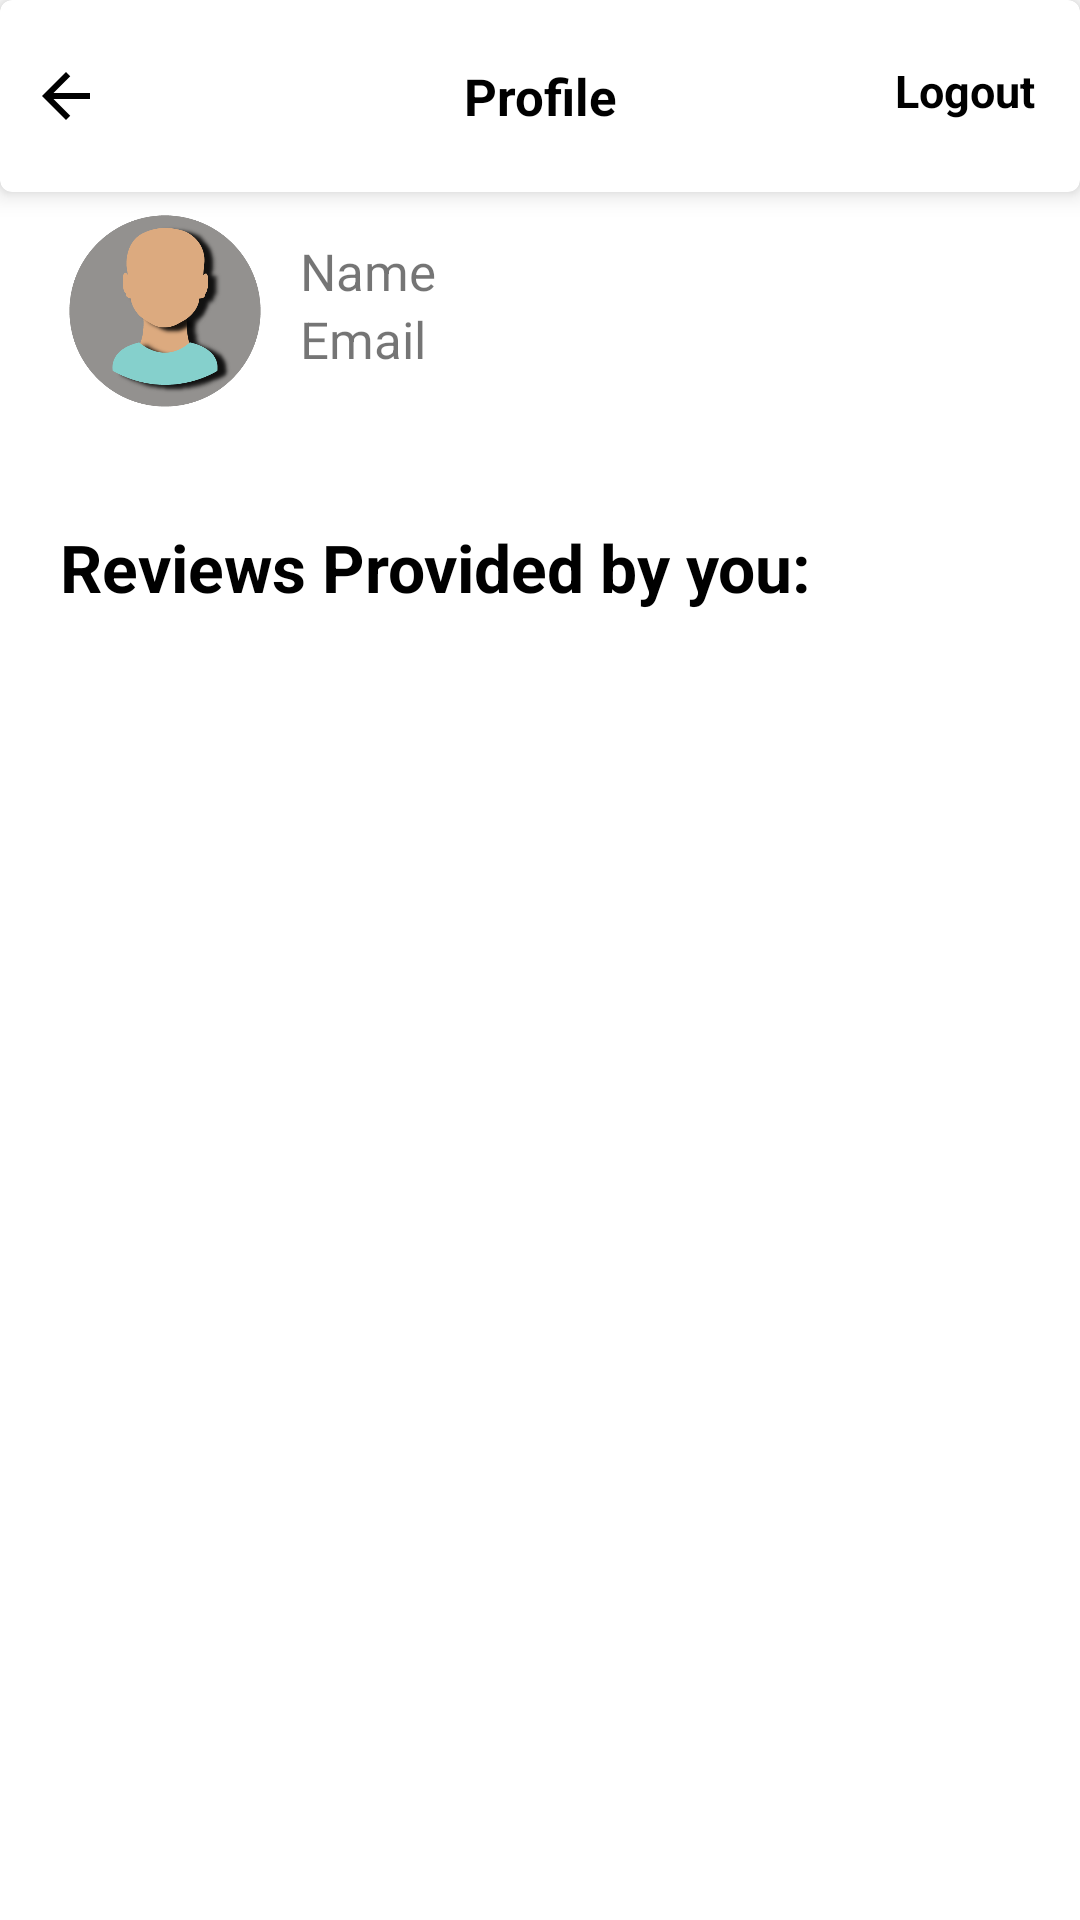

Named icons in this screenshot (1080px x 1920px) and their centers, (x=x, y=y):
arrow back: (x=66, y=96)
user: (x=165, y=311)
